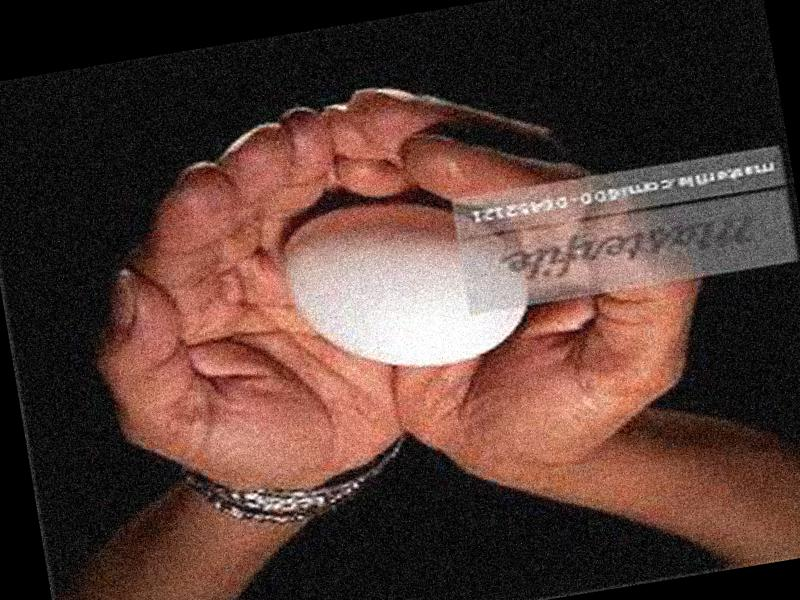Eggs: (273, 179, 528, 385)
